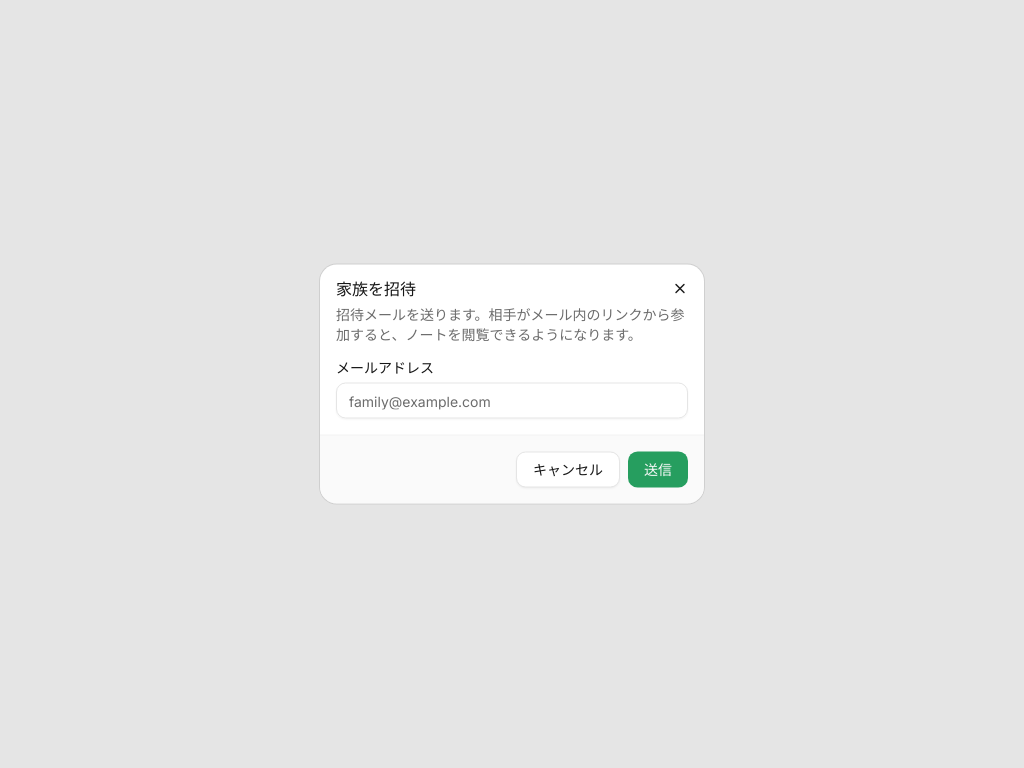
Test case: InviteDialog › 422 のフィールドエラーがメール欄に反映される
The image size is (1024, 768).
Type "dup@example.com" into the field labelled "メールアドレス" at (512,400), box x1=336 y1=382 x2=688 y2=418
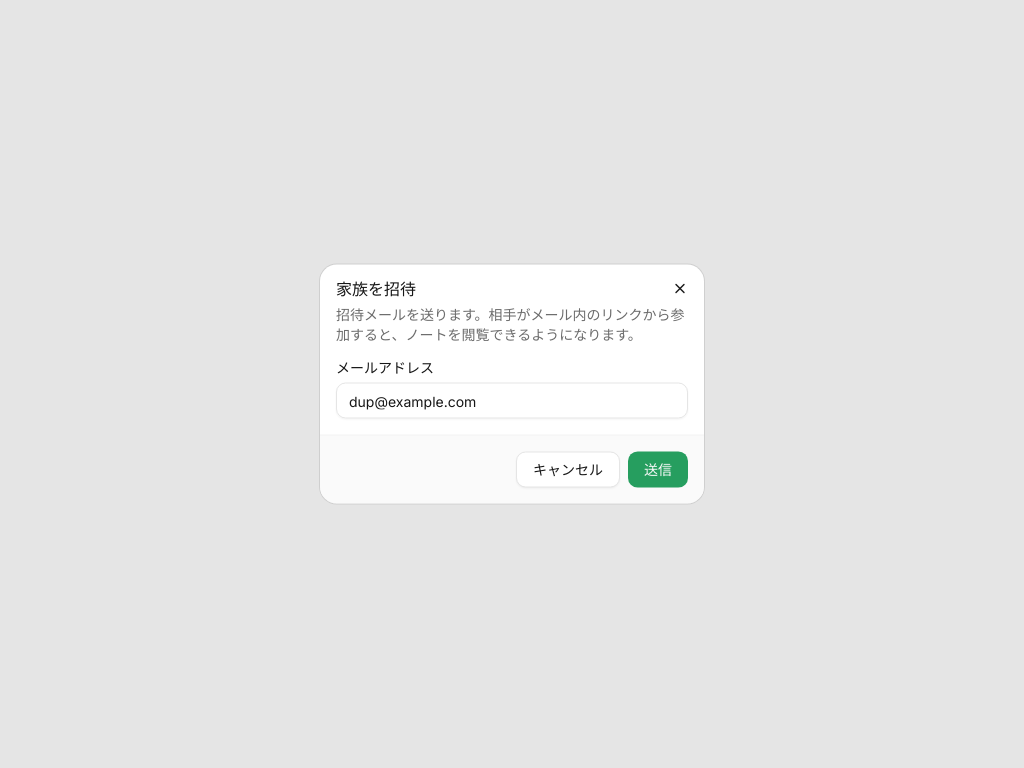
Click the button "送信" at (658,470), box x1=628 y1=452 x2=688 y2=488
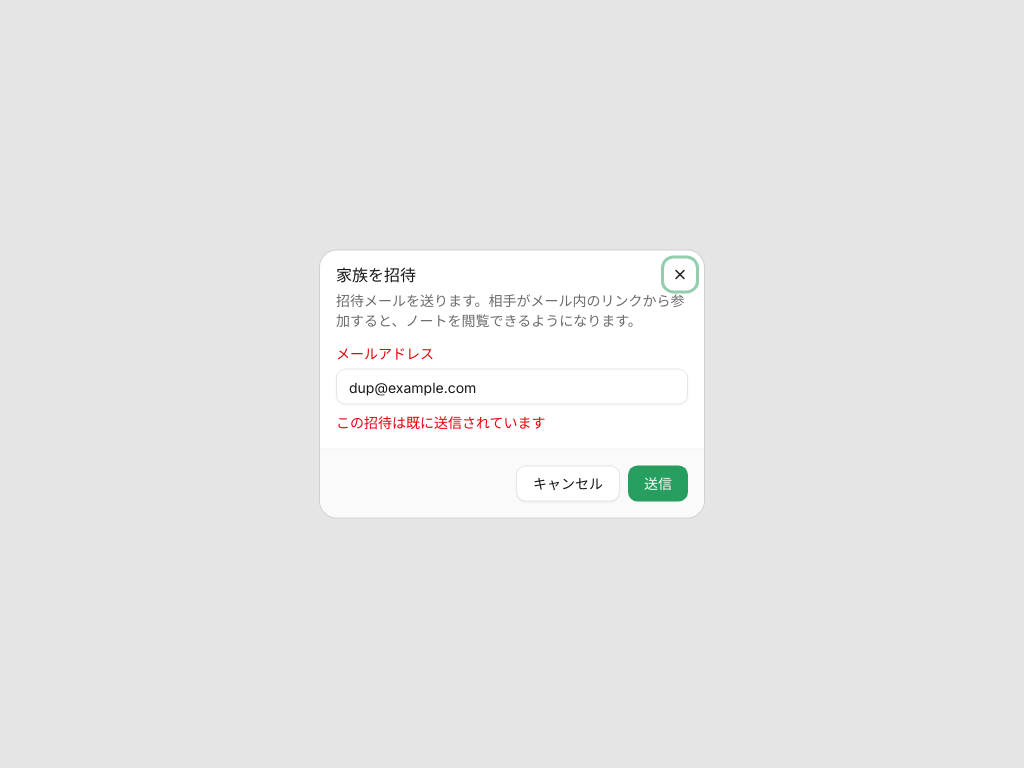
Expected: the text "この招待は既に送信されています" is shown, x1=336 y1=414 x2=546 y2=430
